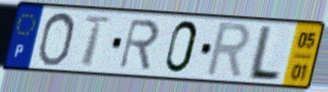0: (163, 19, 199, 76)
L: (244, 23, 284, 83)
O: (35, 10, 78, 68)
R: (202, 20, 253, 81), (117, 18, 162, 72)
T: (80, 14, 113, 69)
